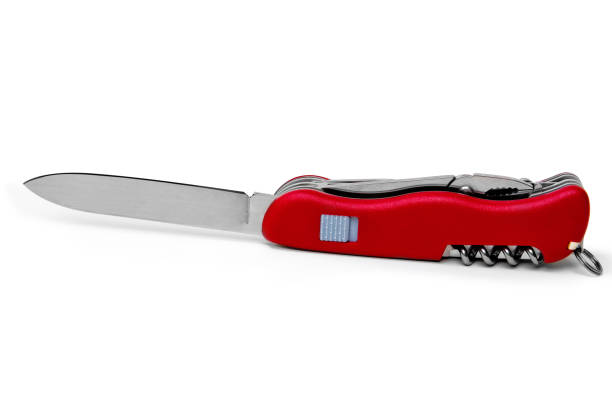knife: (21, 169, 279, 239)
